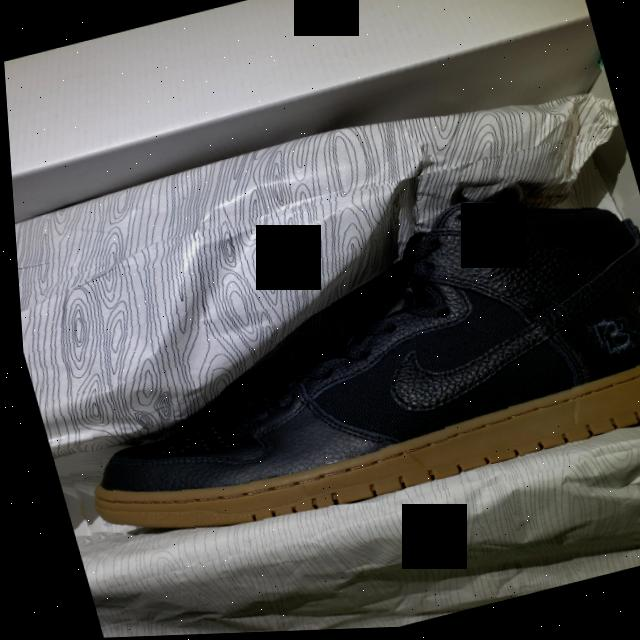shoe: (8, 128, 640, 595)
